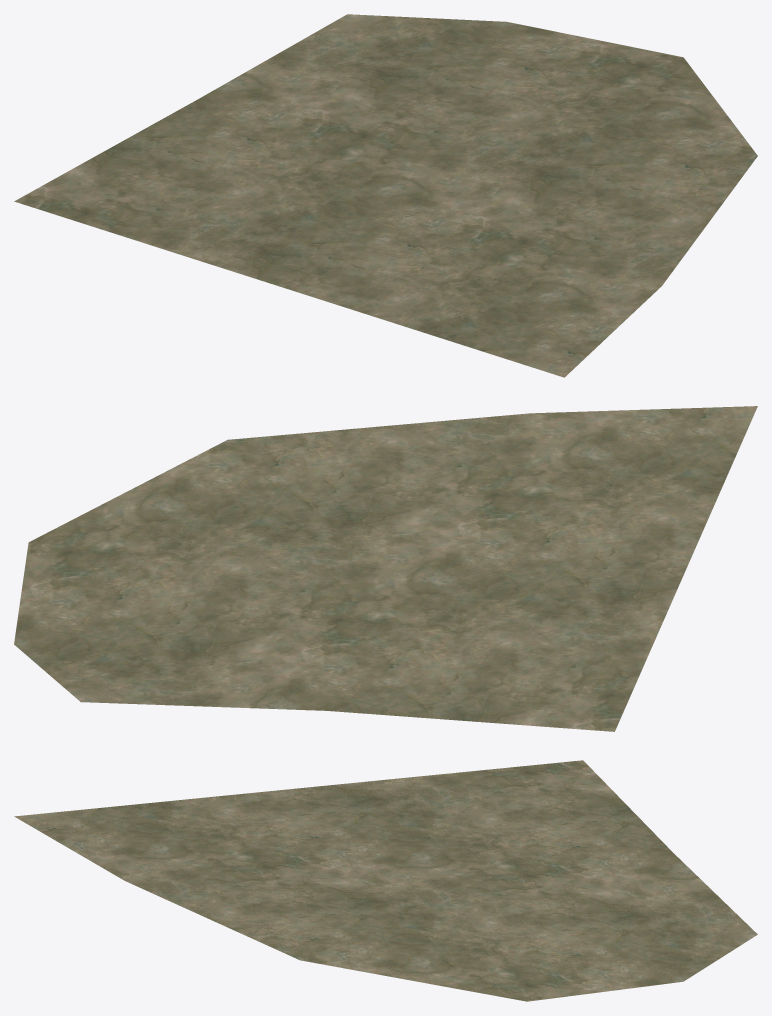
The model's file is OVERHILL_A_01_LINE40.fbx.
3 views of the same model, one above another, from view 1: azimuth 30°, elevation 25°; view 2: azimuth 150°, elevation 25°; view 3: azimuth 270°, elevation 25° (orthographic). The views are drawn at different scales.
Visible parts, largest first — view 1: OVERHILL_A_01_LINE40; view 2: OVERHILL_A_01_LINE40; view 3: OVERHILL_A_01_LINE40.
Part boxes in pixels (x1,y1,x2,y2): OVERHILL_A_01_LINE40: (14, 14, 757, 377); OVERHILL_A_01_LINE40: (14, 406, 757, 731); OVERHILL_A_01_LINE40: (14, 760, 757, 1001).
Bounding box in the file's own units: 45741 × 2337 × 56827.
Materials: 1 (1 with a texture image).
